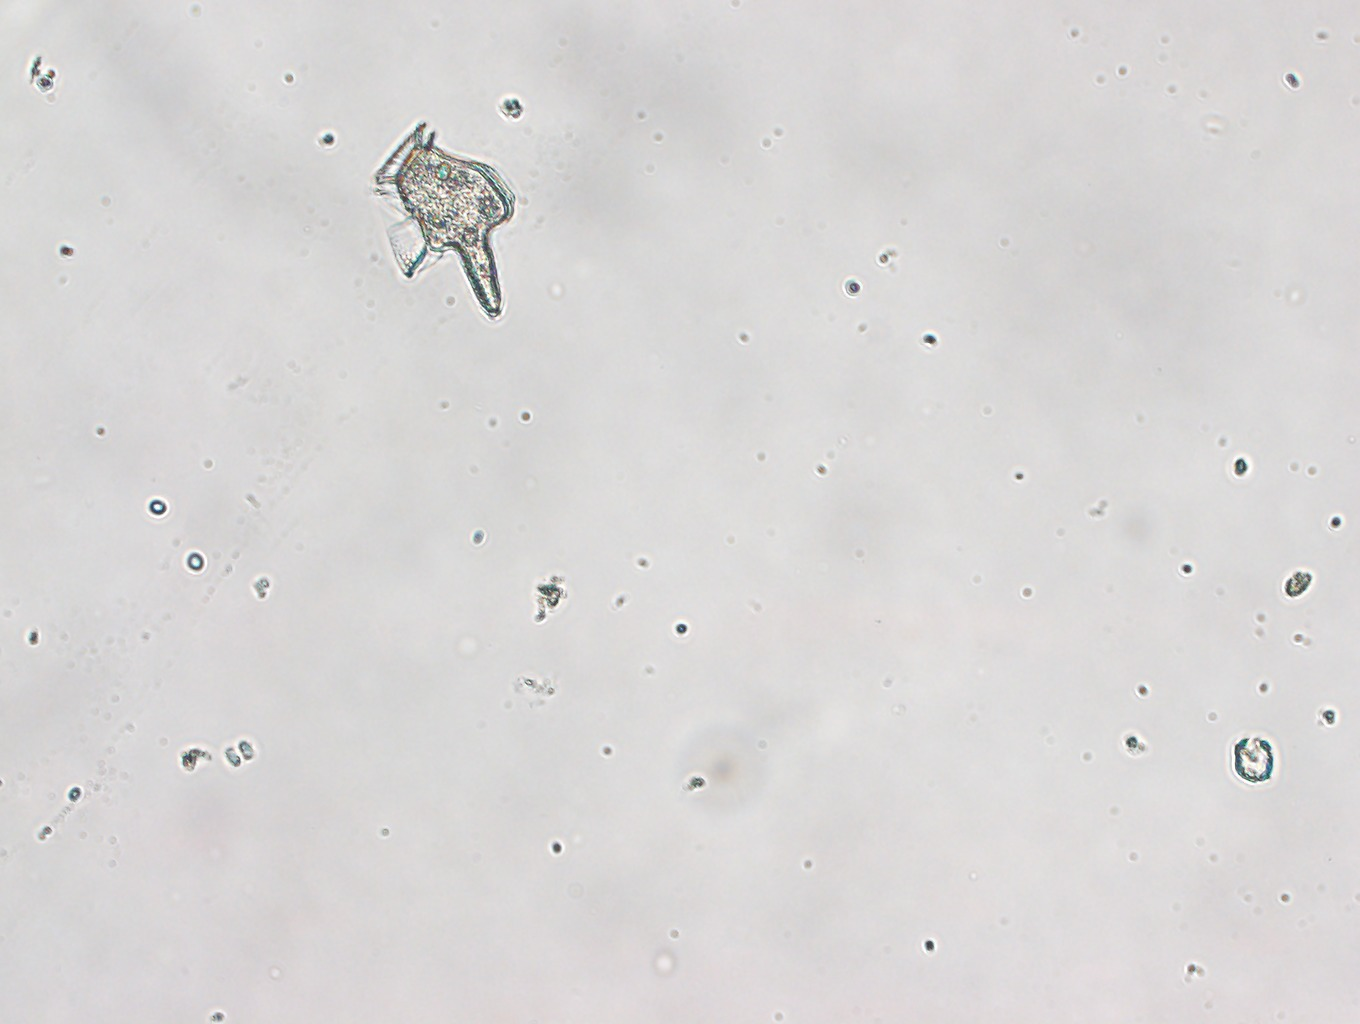dinophysis caudata: (372, 120, 515, 325)
